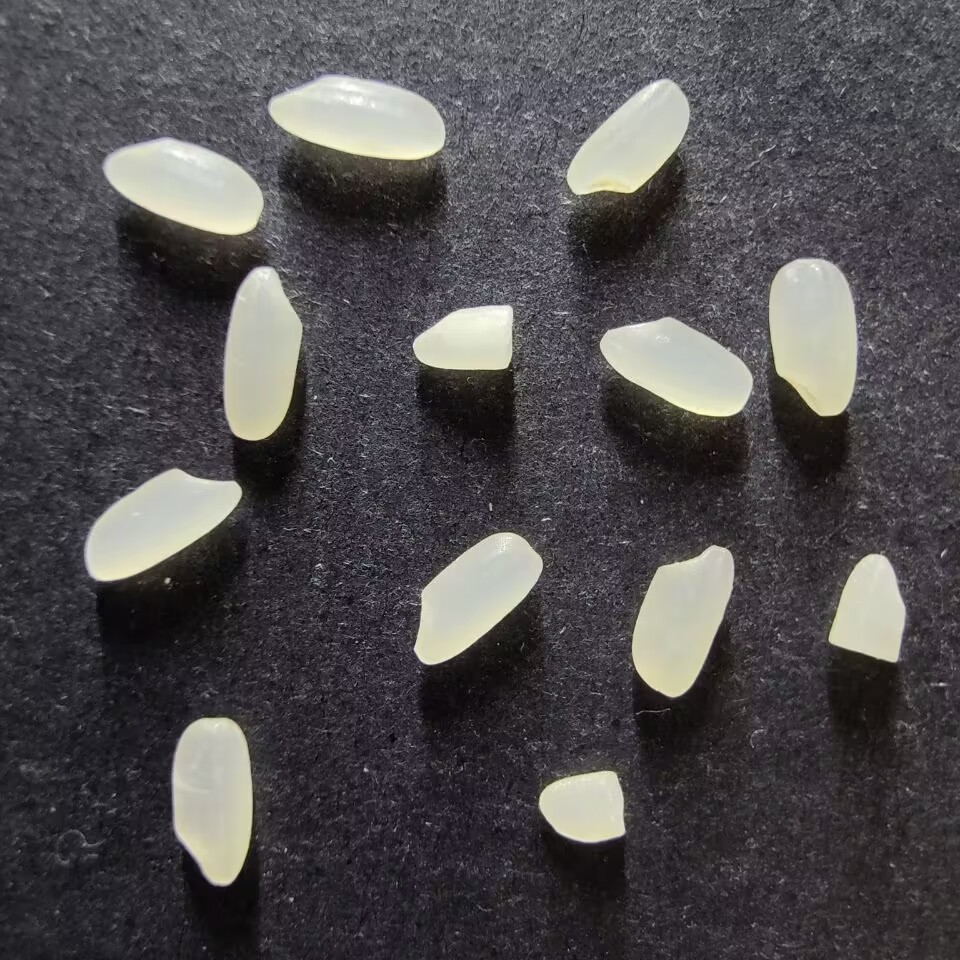broken: (826, 552, 907, 664), (411, 303, 515, 372), (537, 769, 626, 844)
rice: (84, 467, 242, 581), (412, 530, 543, 666), (630, 543, 735, 698), (102, 137, 263, 236), (599, 315, 752, 417), (266, 74, 445, 160), (566, 77, 690, 196), (221, 265, 303, 441), (768, 258, 858, 417), (170, 716, 253, 886)
